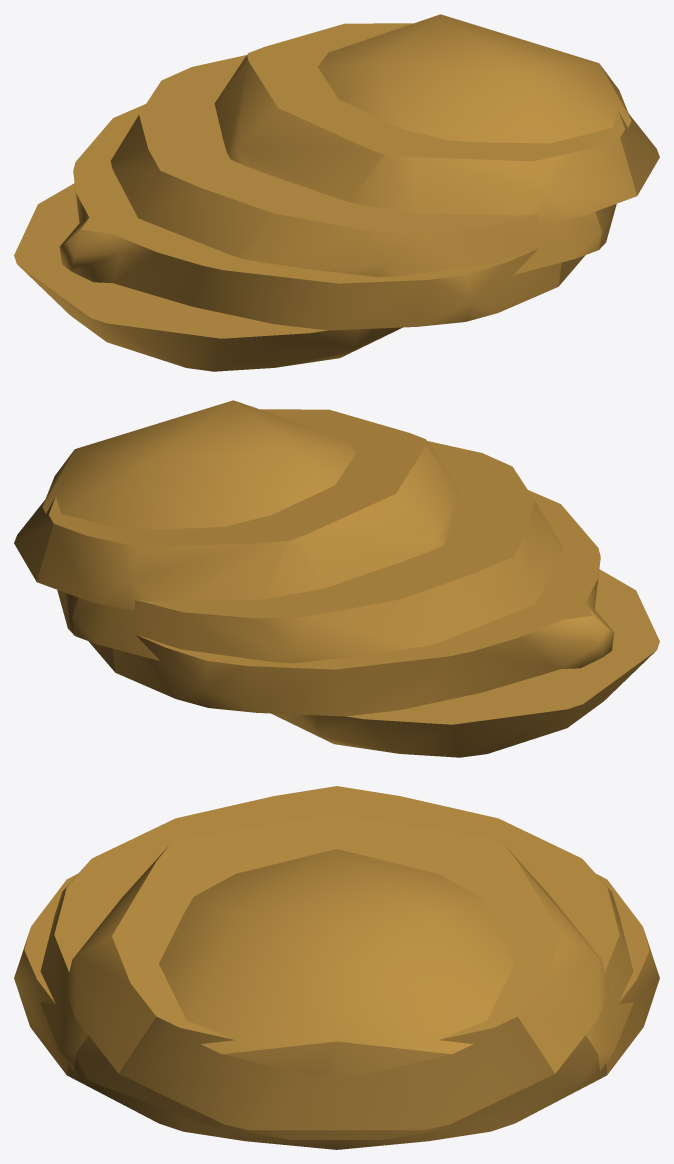
The model's file is OnionChopped.glb.
3 views of the same model, one above another, from view 1: azimuth 30°, elevation 25°; view 2: azimuth 150°, elevation 25°; view 3: azimuth 270°, elevation 25° (orthographic). The views are drawn at different scales.
Visible parts, largest first — view 1: Icosphere.014; view 2: Icosphere.014; view 3: Icosphere.014.
Boxes of the visible parts, left/top/right/bottom form: Icosphere.014: left=14, top=14, right=659, bottom=371; Icosphere.014: left=14, top=400, right=659, bottom=757; Icosphere.014: left=14, top=786, right=659, bottom=1149.
Bounding box in the file's own units: 0.6651 × 0.2172 × 0.5495.
